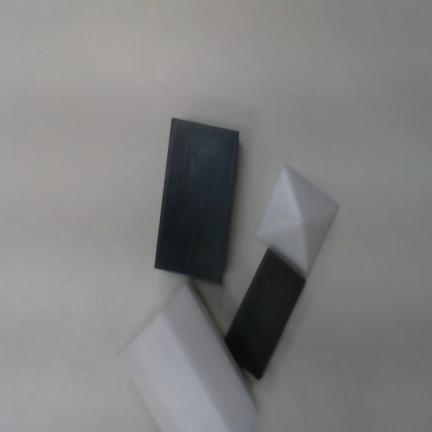Paralelepipedo: (154, 118, 240, 283), (223, 247, 307, 380)
Piramide: (255, 165, 340, 277)
Prisma_hexagonal: (121, 279, 261, 431)
